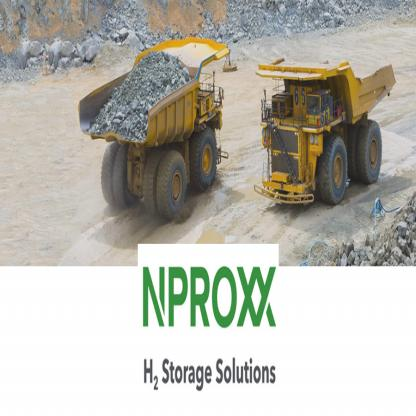dump_truck: (78, 23, 233, 209), (256, 38, 394, 208)
